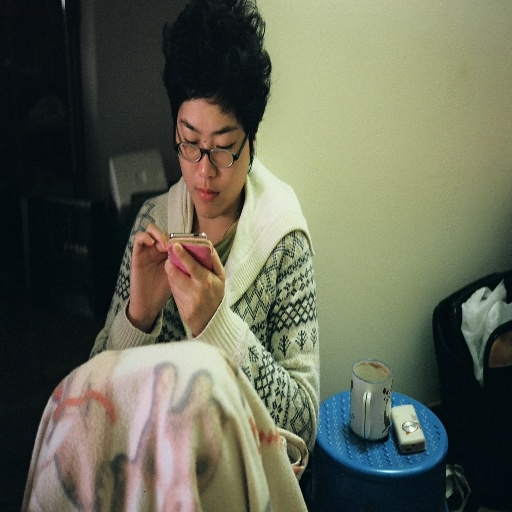hand: (155, 224, 226, 331), (128, 220, 172, 329)
